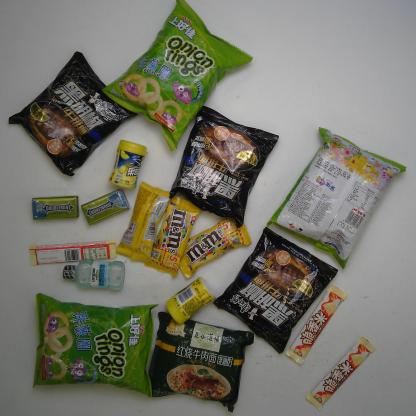Chocolate: (301, 333, 383, 412), (171, 211, 253, 281), (283, 284, 350, 367), (145, 190, 209, 276), (113, 179, 176, 265), (25, 232, 118, 267)
Gum: (163, 275, 218, 326), (80, 184, 134, 228), (108, 136, 148, 190), (28, 192, 80, 223)
Instant Noodles: (7, 49, 139, 178), (157, 104, 291, 230), (210, 226, 340, 355), (142, 310, 255, 413)
Personal Hygiene: (58, 254, 129, 292)
Puffed Food: (97, 0, 258, 152), (264, 126, 408, 271), (30, 292, 161, 401)
